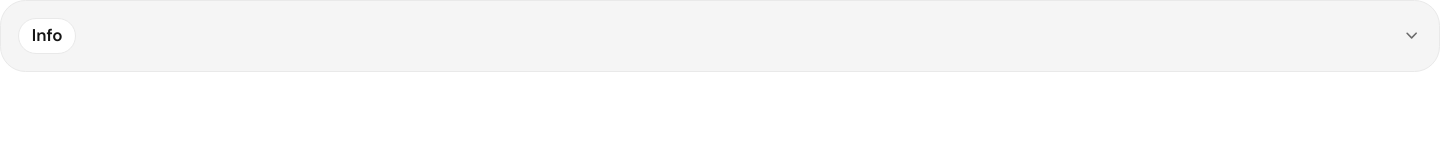
CollapsibleSection › expands on click when initially collapsed
This screenshot has width=1440, height=160.
Click the button with test id "section-info". click: (47, 36)
box: [18,18,1392,54]
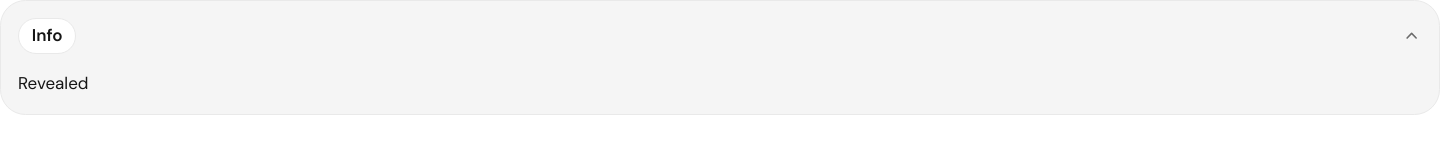
Check: the text "Revealed" is shown, box [18,72,88,94]
